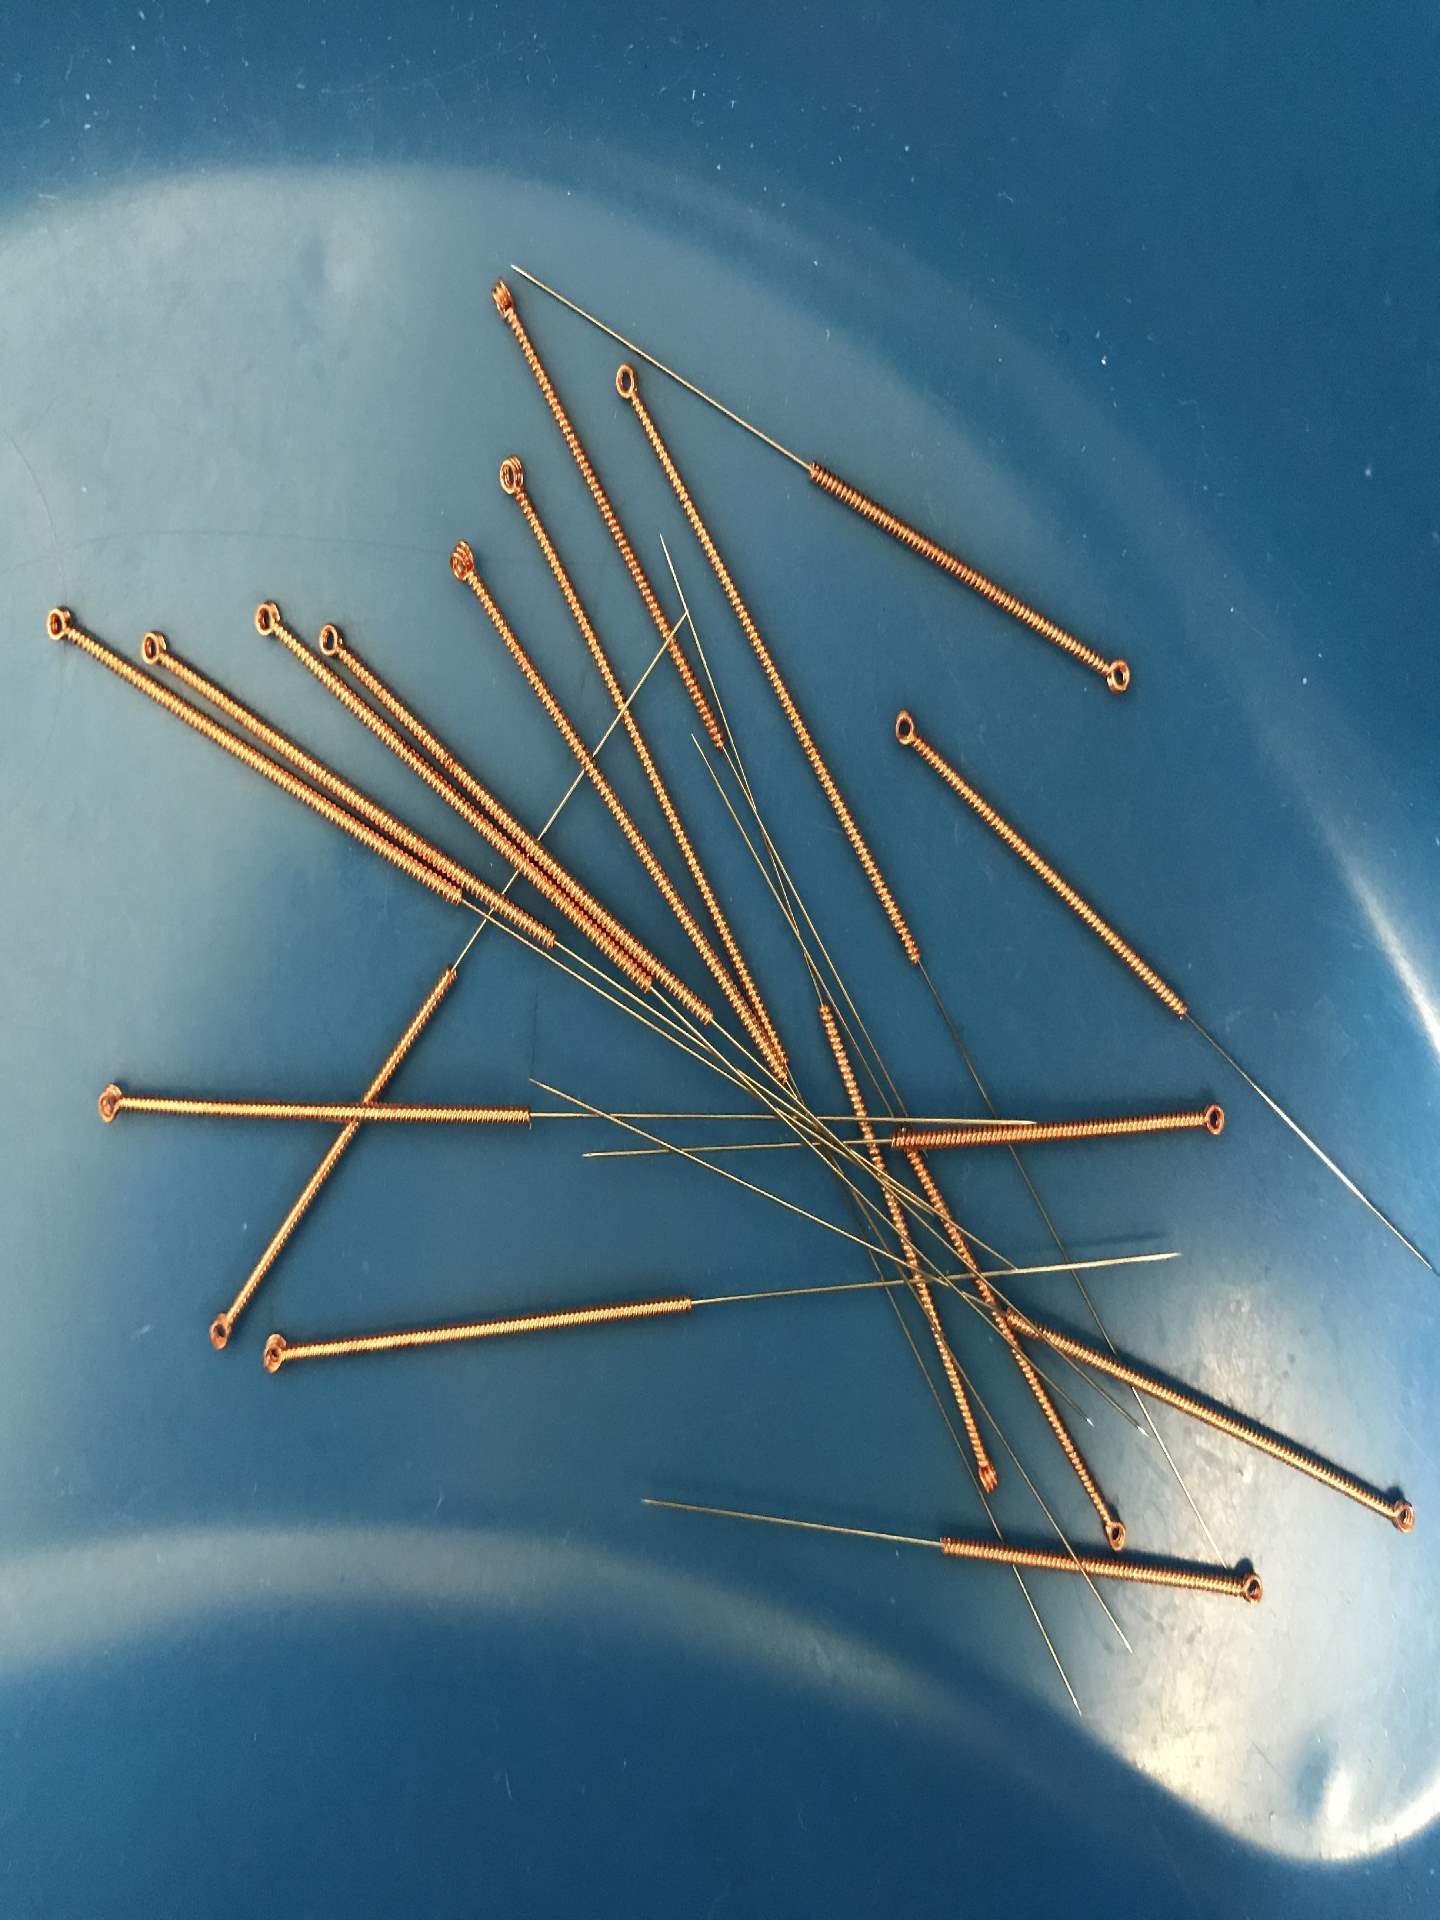needle: (483, 441, 538, 509), (1085, 643, 1141, 708), (433, 528, 487, 593), (470, 269, 525, 333), (879, 698, 933, 759), (250, 1324, 303, 1386), (602, 354, 653, 416), (132, 621, 185, 680), (1373, 1485, 1423, 1547), (33, 596, 85, 655), (244, 588, 293, 649), (85, 1076, 136, 1132), (1181, 1090, 1231, 1147), (965, 1442, 1009, 1503), (310, 612, 355, 670), (1227, 1557, 1271, 1616), (1094, 1501, 1139, 1557), (197, 1300, 244, 1352)
